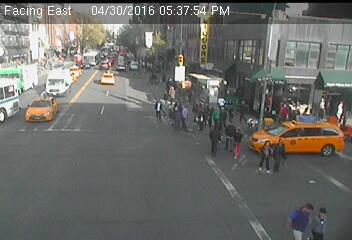neg: (52, 111, 66, 129), (33, 115, 46, 132), (27, 71, 40, 88), (70, 73, 82, 89), (107, 72, 119, 88)
pos: (272, 137, 301, 175), (284, 201, 311, 238), (309, 203, 336, 239), (252, 141, 278, 176), (148, 95, 168, 121)
